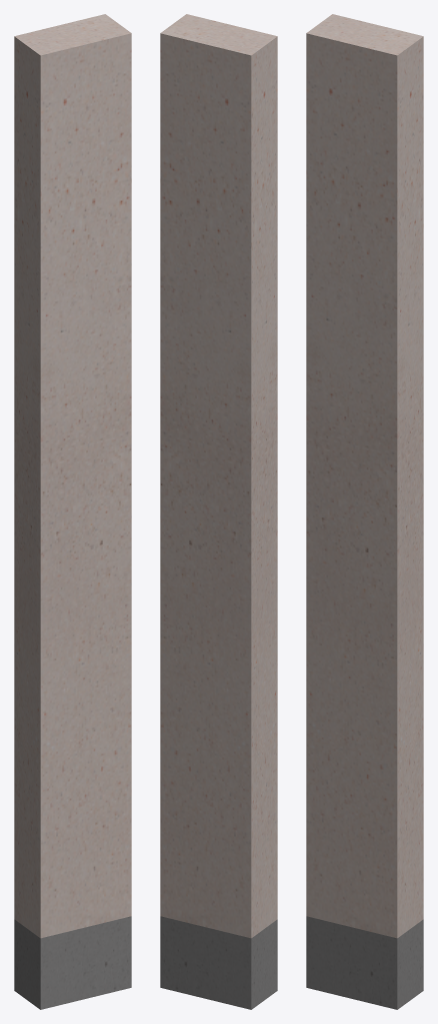
The model's file is column_1A.FBX.
3 renders of one model, left to right at view 1: azimuth 30°, elevation 25°; view 2: azimuth 150°, elevation 25°; view 3: azimuth 330°, elevation 25°, orthographic.
Parts seen in each view (by area): view 1: column_1A; view 2: column_1A; view 3: column_1A.
Part boxes in pixels (x1,y1,x2,y2): column_1A: [14, 14, 131, 1009]; column_1A: [160, 14, 277, 1009]; column_1A: [306, 14, 423, 1009].
Bounding box in the file's own units: 3 × 30 × 1.5.
